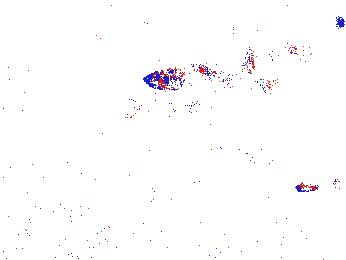X-ray fish: (143, 67, 193, 93)
red belly glassfish: (217, 144, 275, 169), (295, 177, 341, 195)
redtail glassfish: (191, 61, 281, 100), (227, 20, 285, 67), (280, 40, 346, 77), (123, 94, 201, 125)
